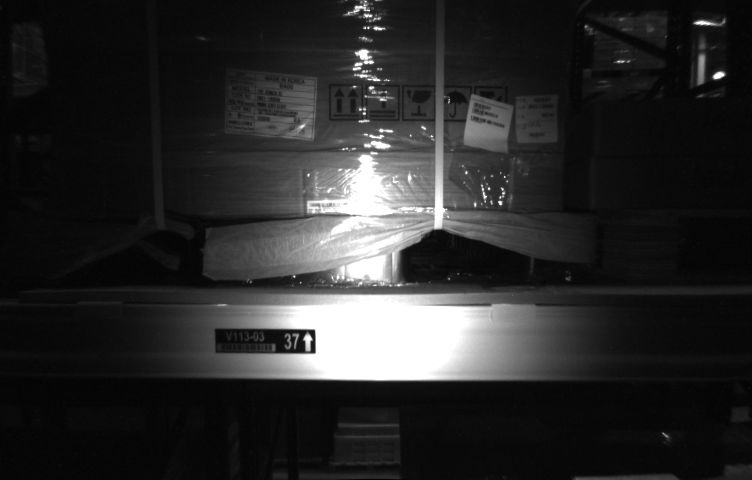True Barcode: (516, 94, 556, 141)
